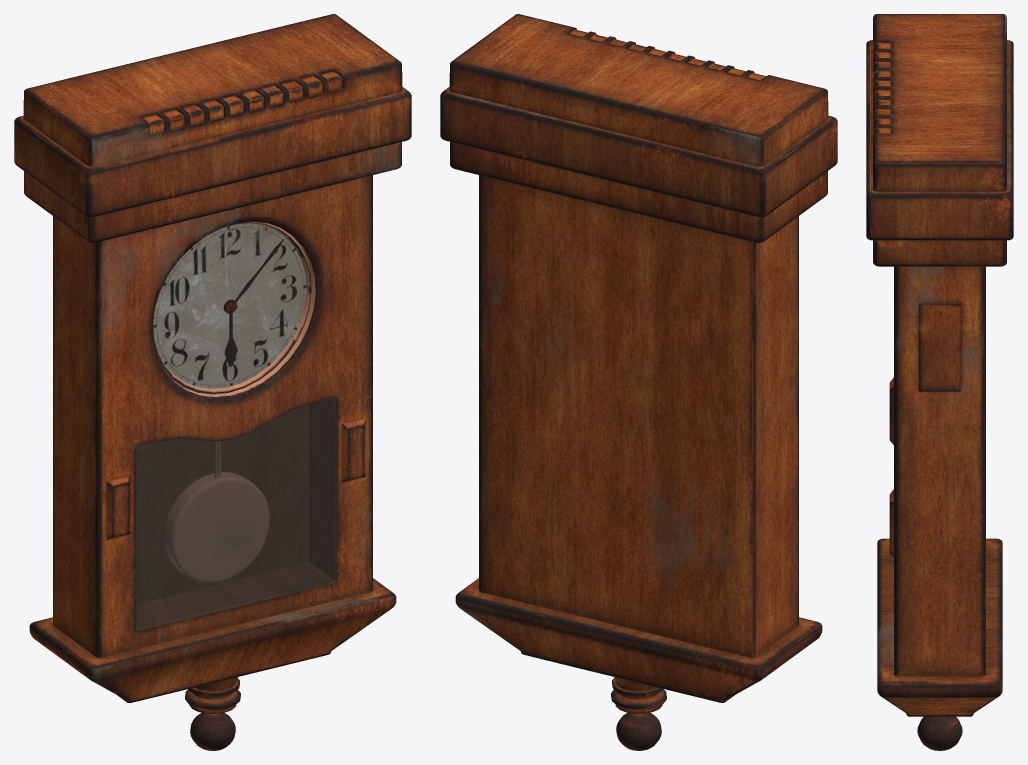
Rendered from vintage_wall_clock.glb.
The picture shows the model from 3 angles, left to right: view 1: azimuth 30°, elevation 25°; view 2: azimuth 150°, elevation 25°; view 3: azimuth 270°, elevation 25°; orthographic projection.
Parts seen in each view (by area): view 1: antique, glass, bong; view 2: antique; view 3: antique.
Part boxes in pixels (left/top/right/bottom): antique: left=14, top=14, right=411, bottom=750; glass: left=136, top=396, right=336, bottom=630; bong: left=164, top=441, right=269, bottom=582; antique: left=440, top=14, right=837, bottom=750; antique: left=866, top=14, right=1013, bottom=750.
Size of the model in its own units: 55.34 by 110 by 22.12.
Materials: 3 (3 with a texture image).
